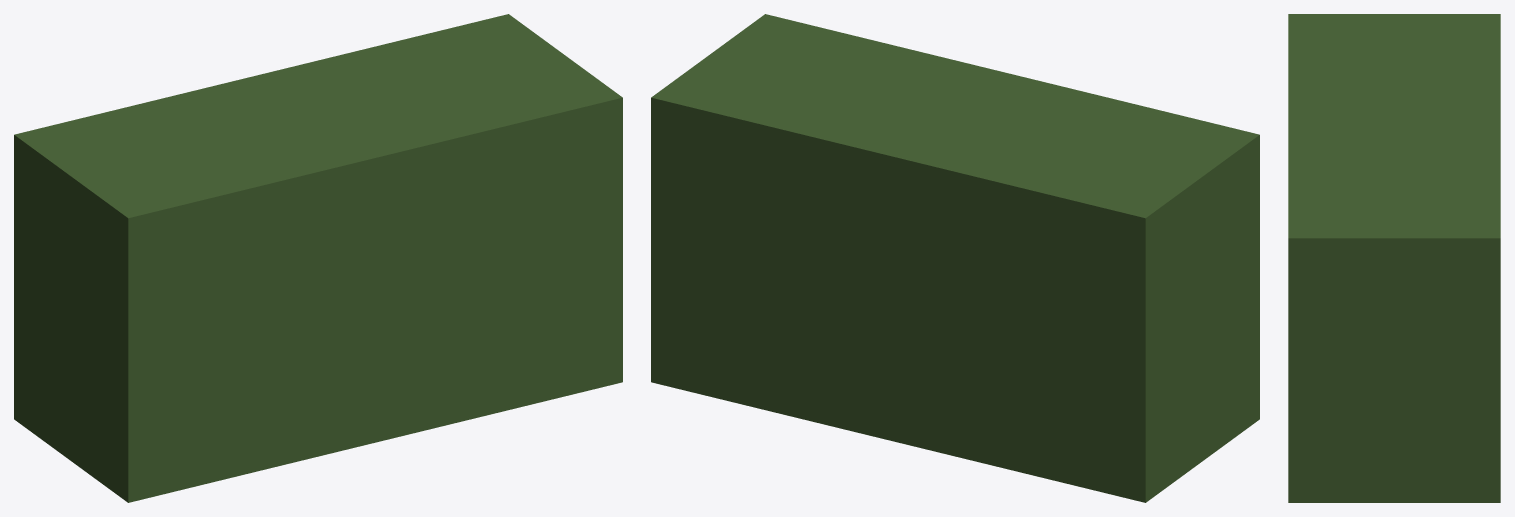
Rendered from hedge_2m.glb.
The picture shows the model from 3 angles, left to right: view 1: azimuth 30°, elevation 25°; view 2: azimuth 150°, elevation 25°; view 3: azimuth 270°, elevation 25°; orthographic projection. The views are drawn at different scales.
Visible parts, largest first — view 1: hedge_2m; view 2: hedge_2m; view 3: hedge_2m.
Part boxes in pixels (x1,y1,x2,y2): hedge_2m: (14,14,622,502); hedge_2m: (651,14,1259,502); hedge_2m: (1288,14,1500,502).
Size of the model in its own units: 2 by 1.1 by 0.8.
